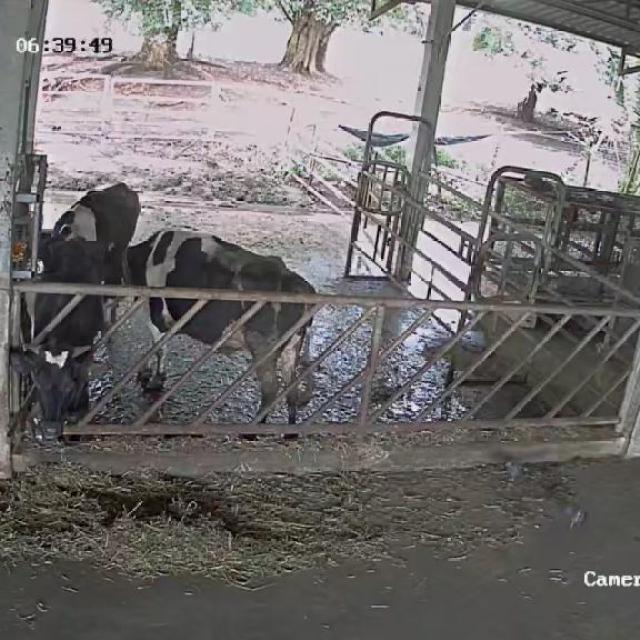feeding: (9, 241, 114, 441)
standing: (108, 227, 314, 438), (45, 177, 145, 312)
